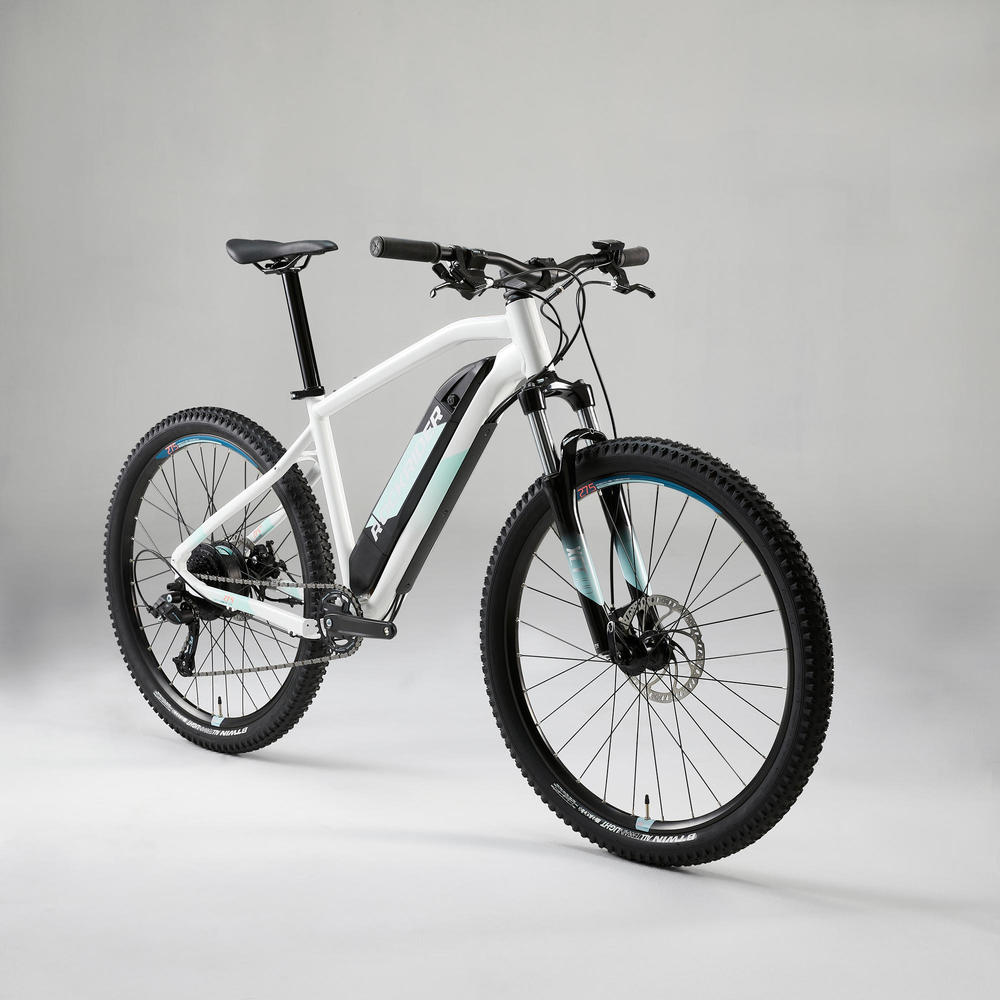MountainBike: (76, 227, 844, 863)
